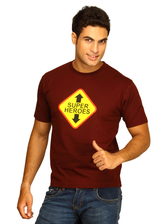clothoes: (32, 58, 150, 191)
